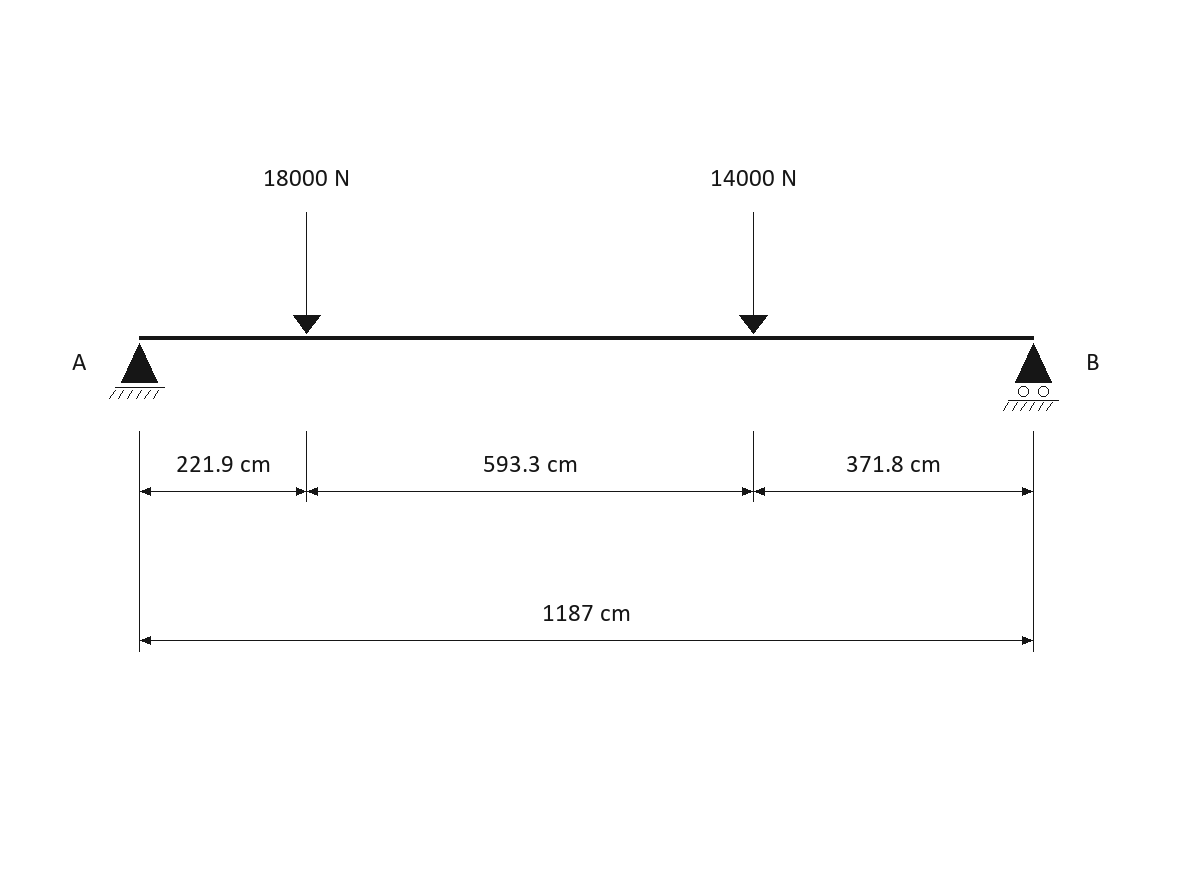pin_support: (109, 343, 165, 399)
point_load: (739, 212, 768, 334), (293, 212, 321, 334)
roller_support: (1003, 343, 1059, 411)
